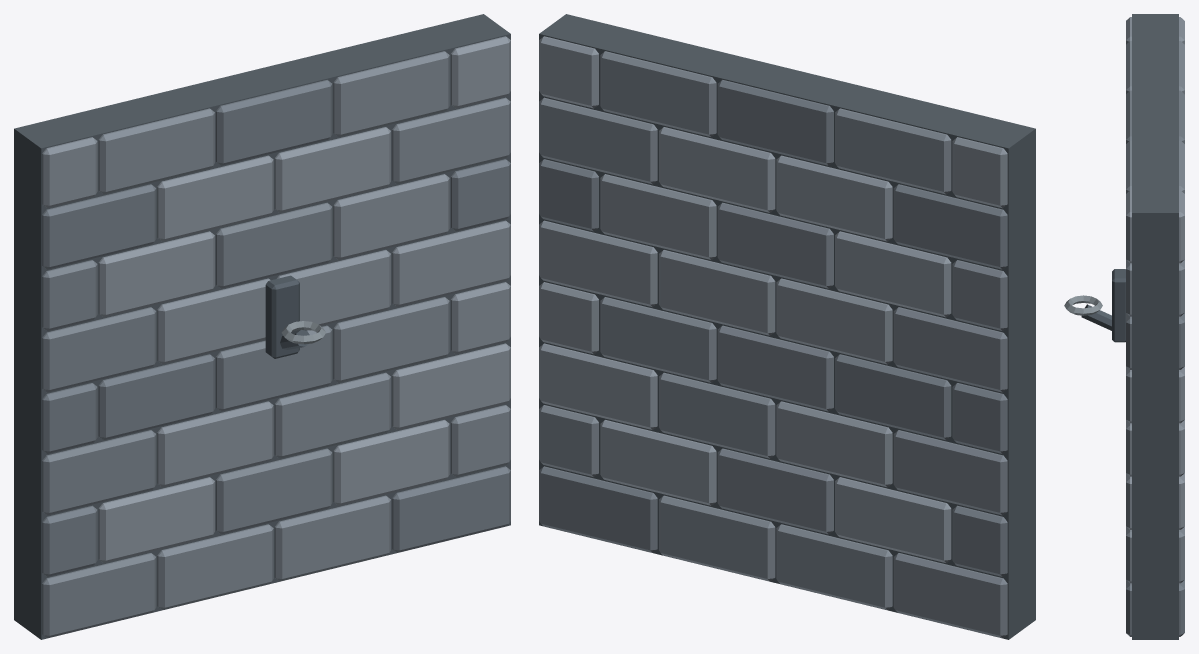
File: MOD_02_Wall_TorchMount.glb
3 views of the same model, side by side, from view 1: azimuth 30°, elevation 25°; view 2: azimuth 150°, elevation 25°; view 3: azimuth 270°, elevation 25° (orthographic). The views are drawn at different scales.
Visible parts, largest first — view 1: MOD_02_Wall_TorchMount; view 2: MOD_02_Wall_TorchMount; view 3: MOD_02_Wall_TorchMount.
Part boxes in pixels (x1,y1,x2,y2): MOD_02_Wall_TorchMount: (14, 14, 510, 639); MOD_02_Wall_TorchMount: (539, 14, 1035, 639); MOD_02_Wall_TorchMount: (1064, 14, 1184, 639).
Bounding box in the file's own units: 4 × 4 × 1.03.
